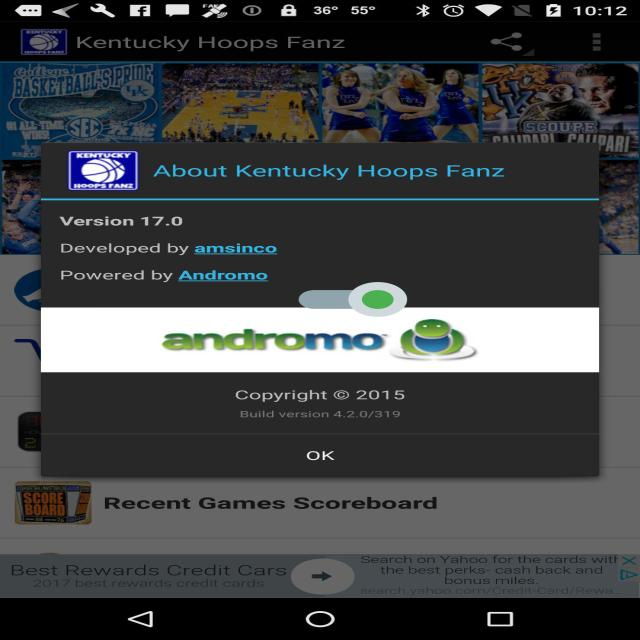social proof: (299, 267, 407, 332)
